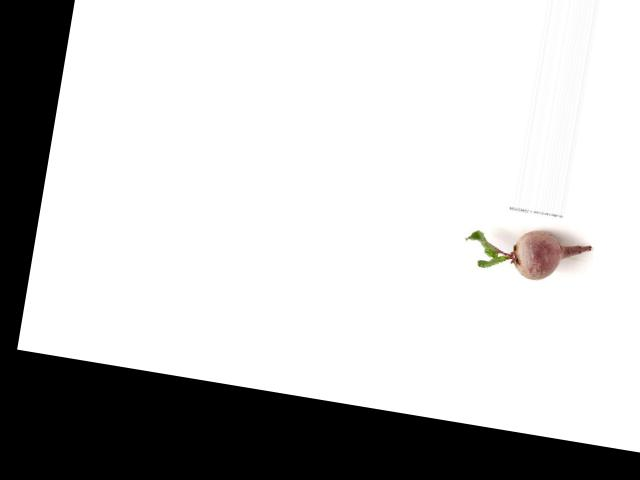beet: (460, 218, 591, 287)
